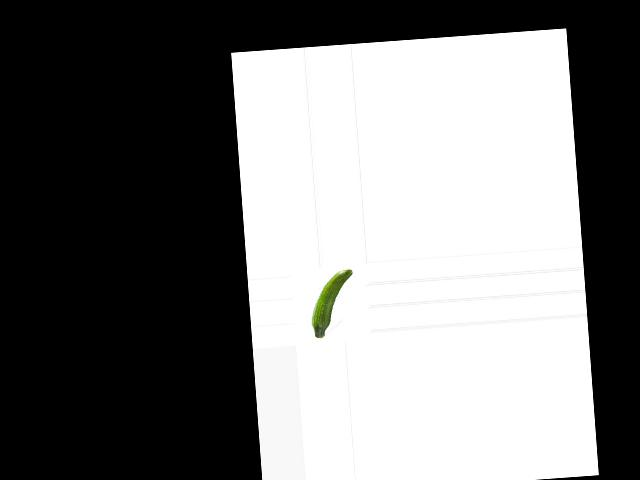cucumber: (308, 269, 357, 339)
